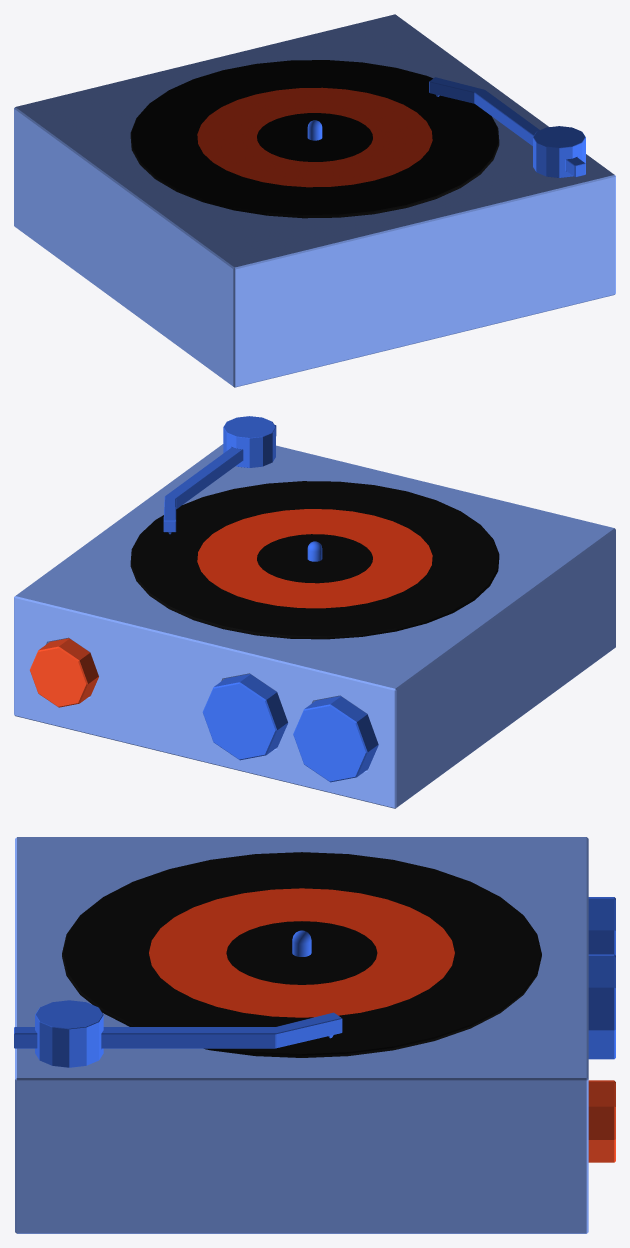
Rendered from Record Player.fbx.
3 views of the same model, one above another, from view 1: azimuth 30°, elevation 25°; view 2: azimuth 150°, elevation 25°; view 3: azimuth 270°, elevation 25° (orthographic). The views are drawn at different scales.
Visible parts, largest first — view 1: Node 0, Node 1, Node 2; view 2: Node 0, Node 1, Node 2; view 3: Node 0, Node 1, Node 2.
Boxes of the visible parts, <box> form: Node 0: <box>14,14,615,387</box>; Node 1: <box>130,60,499,218</box>; Node 2: <box>429,77,585,177</box>; Node 0: <box>14,444,615,808</box>; Node 1: <box>130,481,499,639</box>; Node 2: <box>163,416,276,534</box>; Node 0: <box>15,837,615,1233</box>; Node 1: <box>62,852,541,1057</box>; Node 2: <box>14,1000,342,1067</box>.
Bounding box in the file's own units: 0.351 × 0.1268 × 0.3345.
